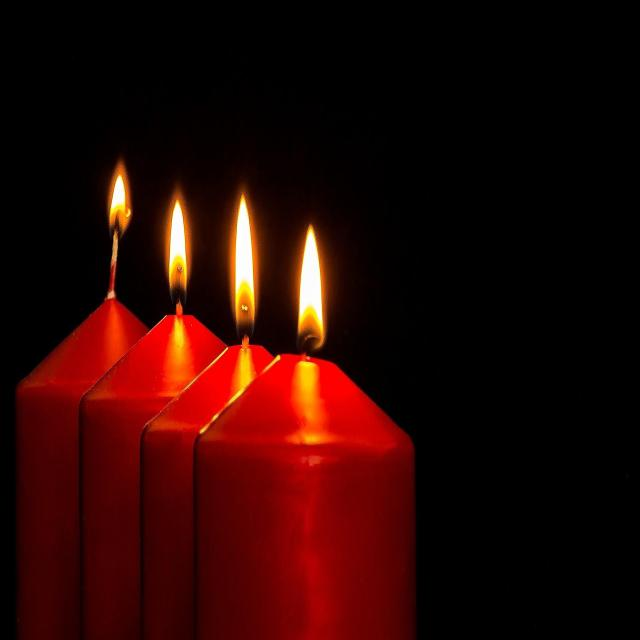Fire_Save: (15, 162, 418, 638), (194, 221, 416, 638), (78, 197, 229, 637), (14, 168, 151, 638), (140, 192, 279, 638)
